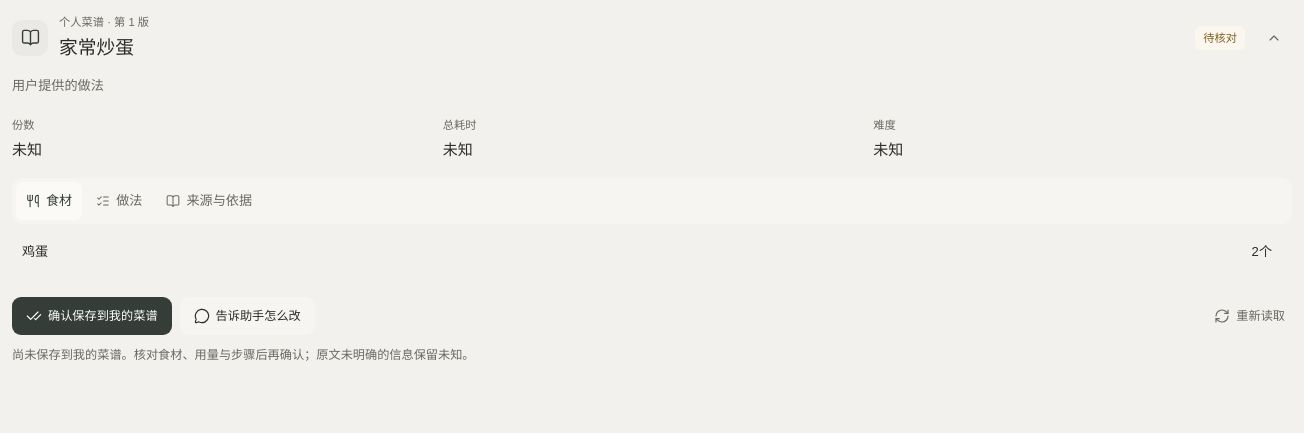
it: chat recipe review › keeps the reviewed record after HTTP 403 and requires an explicit reread before another save
What coordinates should you click on to do the following:
click the button "确认保存到我的菜谱"
I would click on:
 (92, 316)
Its box is [12, 297, 172, 335].
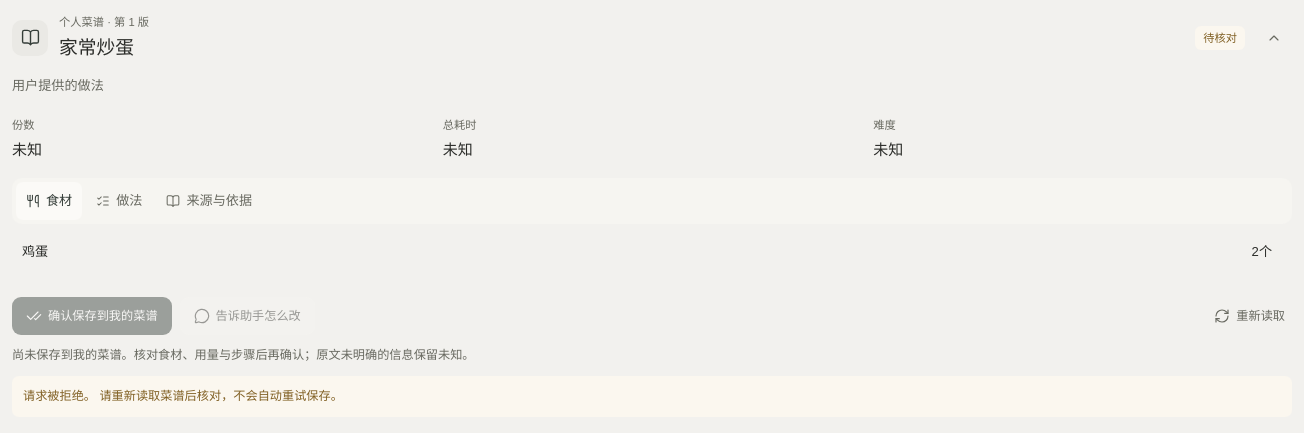
Expected: the heading "家常炒蛋" is shown, [59, 37, 134, 58]
Now the message "请求被拒绝。 请重新读取菜谱后核对，不会自动重试保存。" is shown, box [12, 376, 1292, 417]
Now the button "确认保存到我的菜谱" is disabled, box [12, 297, 172, 335]
What coordinates should you click on to do the following:
click the button with aria-label "重新读取菜谱"
I would click on:
 (1250, 316)
Its box is [1207, 300, 1292, 332].
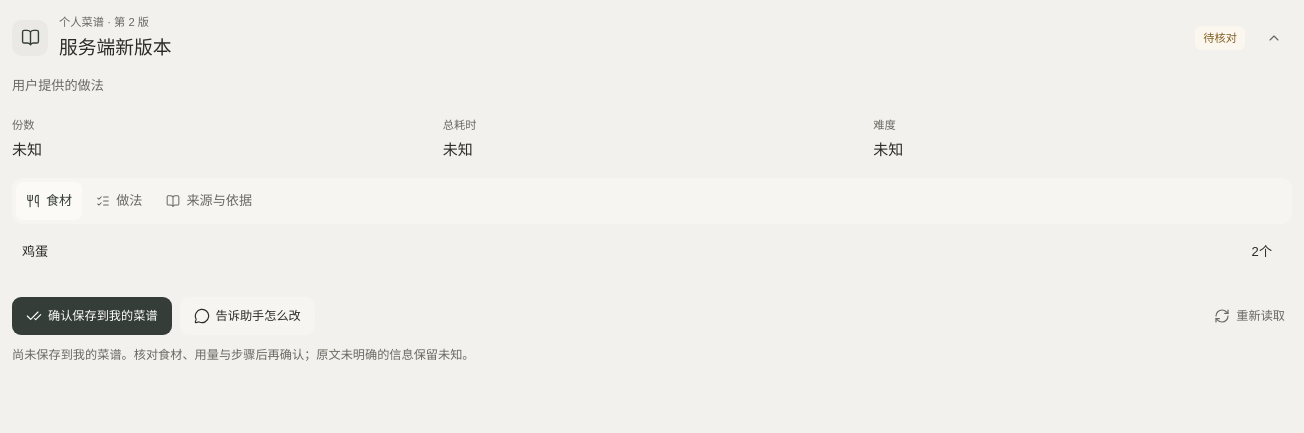
Now the heading "服务端新版本" is shown, box [59, 37, 172, 58]
Now the button "确认保存到我的菜谱" is enabled, box [12, 297, 172, 335]
